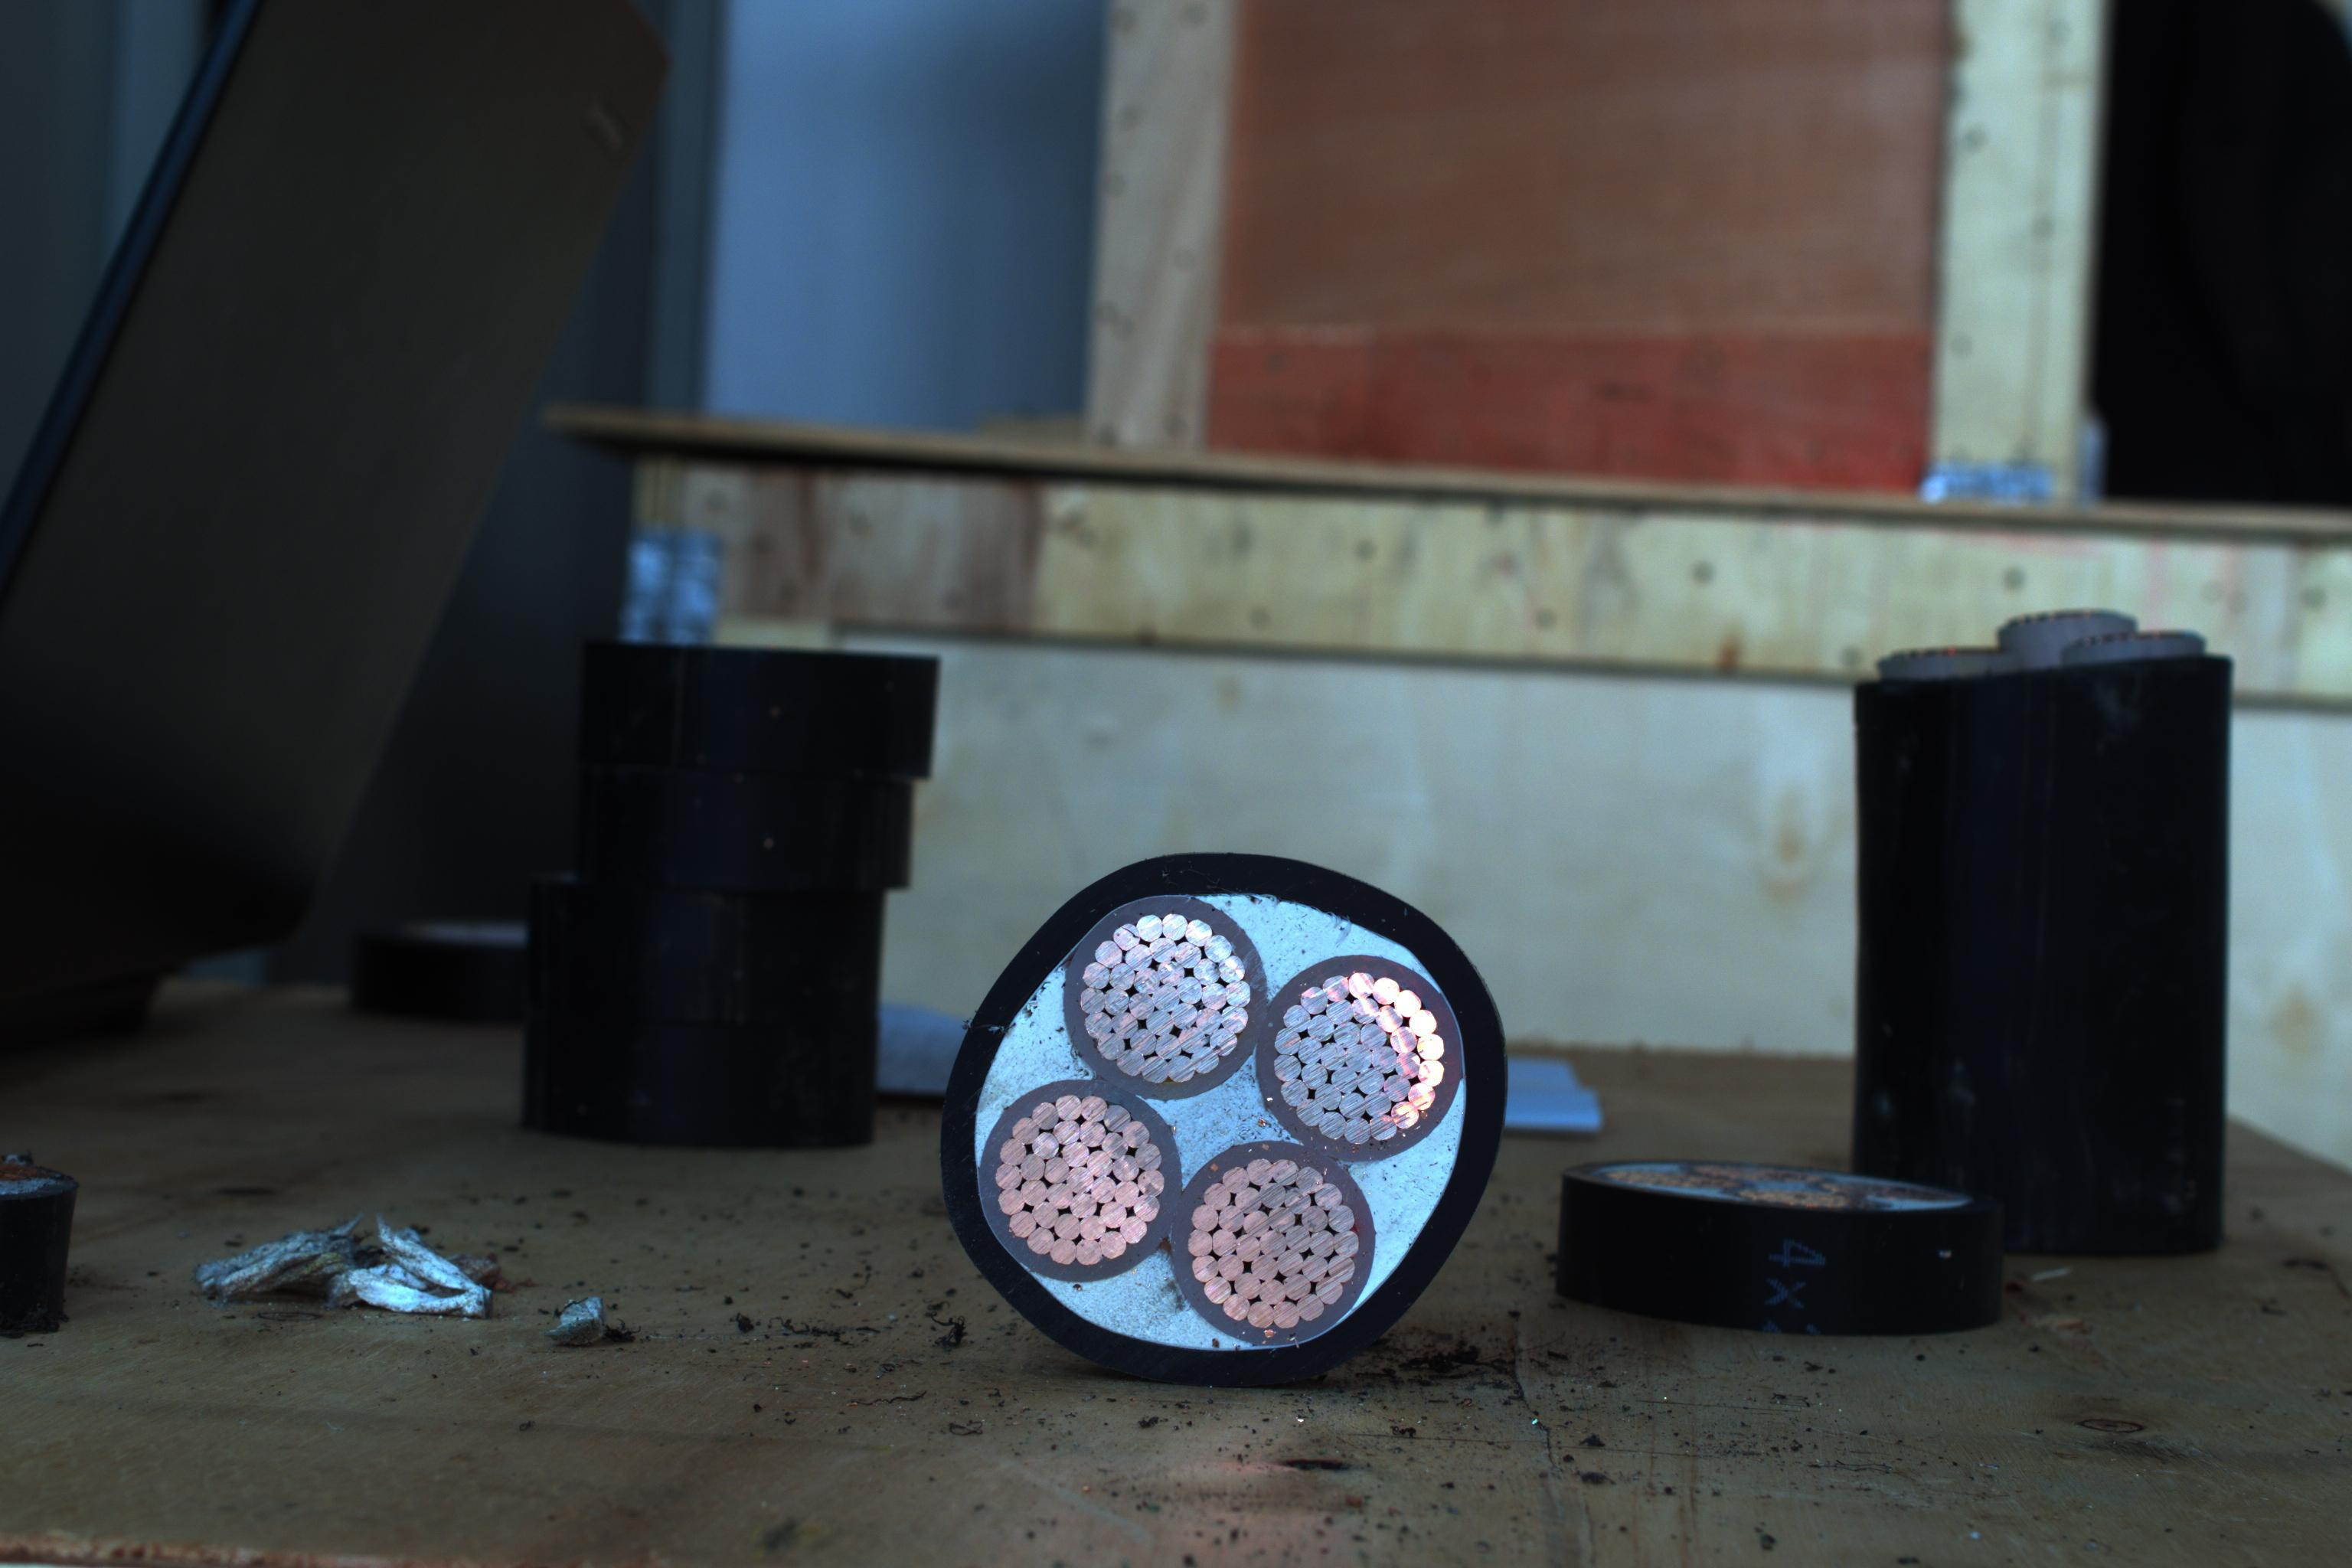YJV_0.6_1kV_4x240: (926, 845, 1519, 1375)
